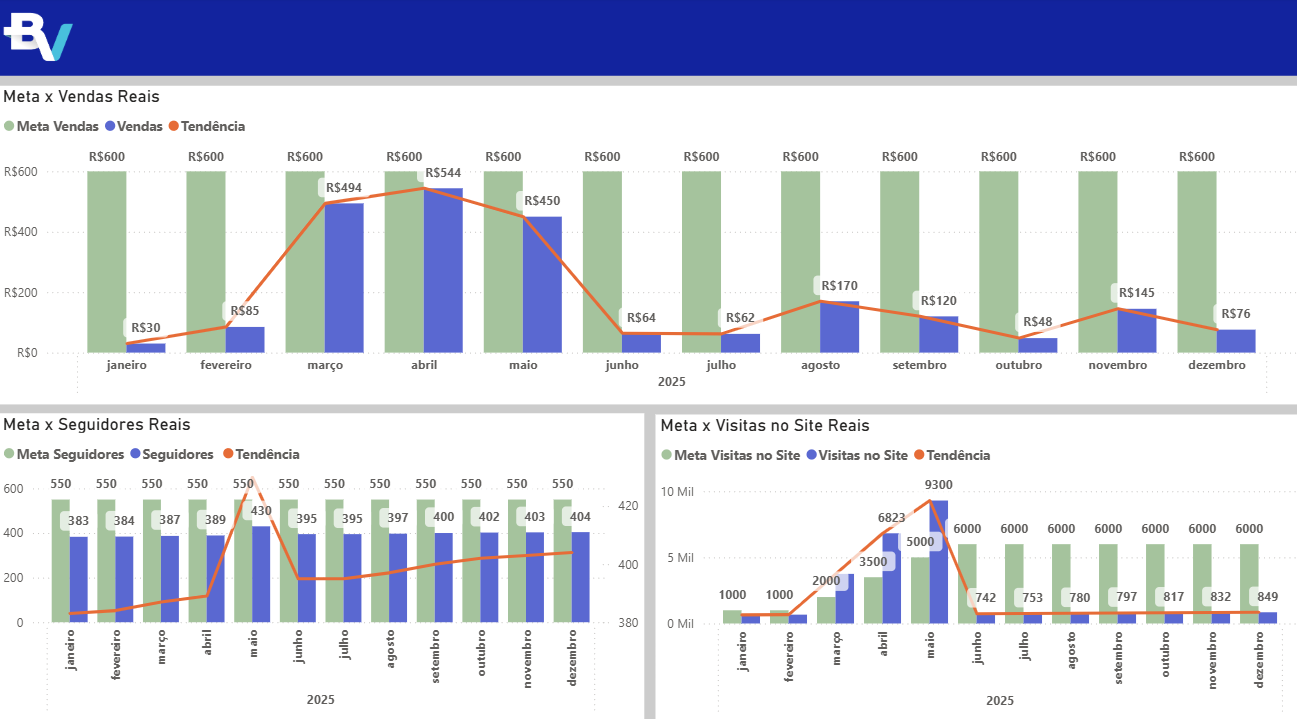

What the dashboard file says about the page in this screenshot:
{"tool":"powerbi","page":{"name":"Análise de Metas","canvas":[1280,720],"ordinal":1},"visuals":[{"type":"lineClusteredColumnComboChart","title":"Meta x Vendas Reais","fields":{"Category":["Metas Mensais.Mês/Ano.Variation.Hierarquia de datas.Ano","Metas Mensais.Mês/Ano.Variation.Hierarquia de datas.Mês"],"Y":["Sum(Metas Mensais.Meta Vendas (R$))","Sum(Metas Mensais.Venda Real)"],"Y2":["Metas Mensais.Vendas"]},"box":[0,87.1,1279.8,312.9],"z":0},{"type":"lineClusteredColumnComboChart","title":"Meta x Seguidores Reais","fields":{"Category":["Metas Mensais.Mês/Ano.Variation.Hierarquia de datas.Ano","Metas Mensais.Mês/Ano.Variation.Hierarquia de datas.Mês"],"Y":["Sum(Metas Mensais.Meta Seguidores)","Sum(Metas Mensais.Seguidores Reais)"],"Y2":["Metas Mensais.Seguidores"]},"box":[0,408.6,634.4,303.1],"z":1000},{"type":"shape","box":[0,0,1279.8,77.3],"z":2000},{"type":"image","box":[0,0,79.8,77.3],"z":3000},{"type":"lineClusteredColumnComboChart","title":"Meta x Visitas no Site Reais","fields":{"Category":["Metas Mensais.Mês/Ano.Variation.Hierarquia de datas.Ano","Metas Mensais.Mês/Ano.Variation.Hierarquia de datas.Mês"],"Y":["Sum(Metas Mensais.Meta Visitas)","Sum(Metas Mensais.Visitas Reais)"],"Y2":["Metas Mensais.Visitas"]},"box":[645.4,409.8,634.4,303.1],"z":4000}]}

Visuals, with their boxes in screenshot pixels (x1, y1, x2, y2), scaled from the page's 1280x720 canvas onto the 1297x719 screenshot:
"Meta x Vendas Reais" lineClusteredColumnComboChart: l=0, t=87, r=1296, b=399
"Meta x Seguidores Reais" lineClusteredColumnComboChart: l=0, t=408, r=643, b=711
shape: l=0, t=0, r=1296, b=77
image: l=0, t=0, r=81, b=77
"Meta x Visitas no Site Reais" lineClusteredColumnComboChart: l=654, t=409, r=1296, b=712
